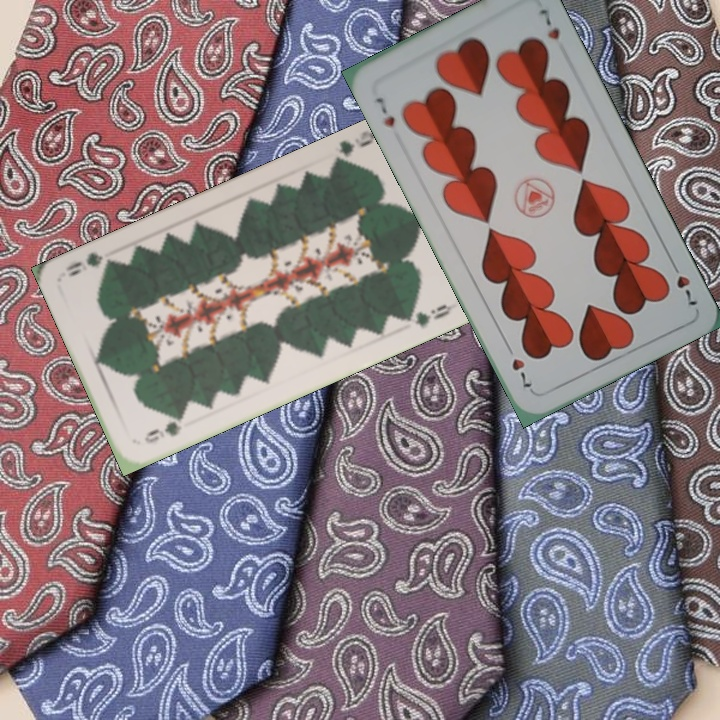G9: (329, 126, 378, 169), (140, 411, 188, 446)
H7: (665, 256, 700, 308), (371, 93, 398, 130)
